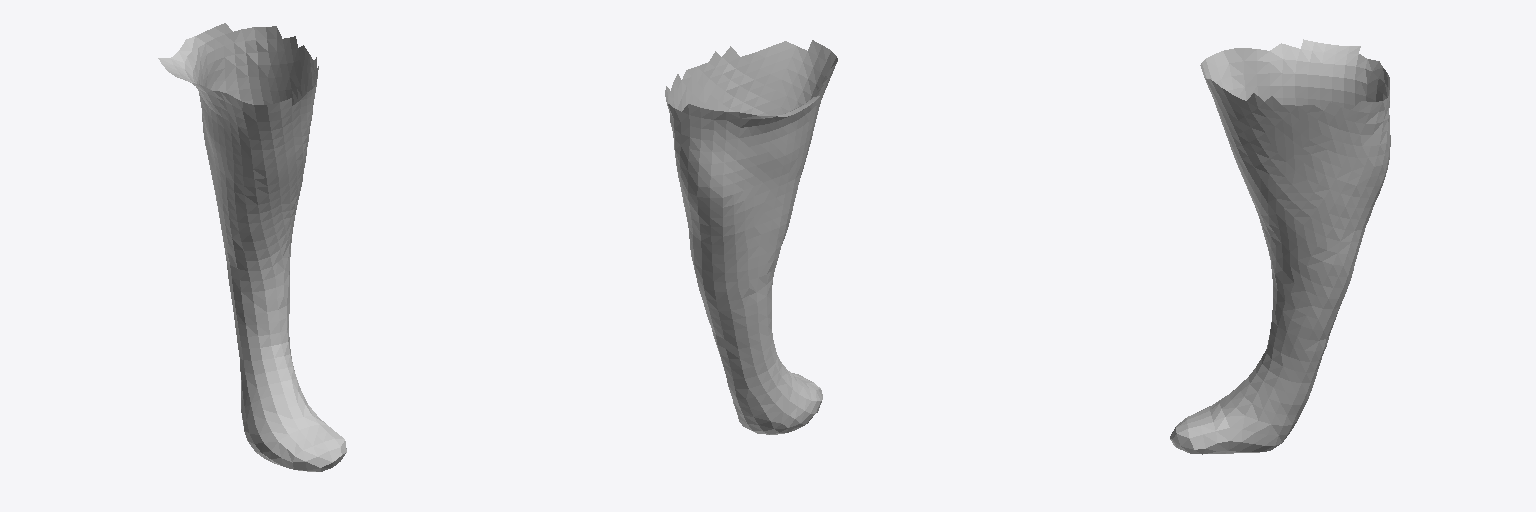
Rendered from pataDelanteraIzq.obj.
3 renders of one model, left to right at view 1: azimuth 30°, elevation 25°; view 2: azimuth 150°, elevation 25°; view 3: azimuth 270°, elevation 25°, orthographic.
Parts seen in each view (by area): view 1: polySurface7; view 2: polySurface7; view 3: polySurface7.
Part boxes in pixels (x1,y1,x2,y2): polySurface7: (158, 23, 346, 471); polySurface7: (665, 40, 837, 434); polySurface7: (1170, 39, 1390, 454).
Size of the model in its own units: 0.3986 by 1.1 by 0.5871.